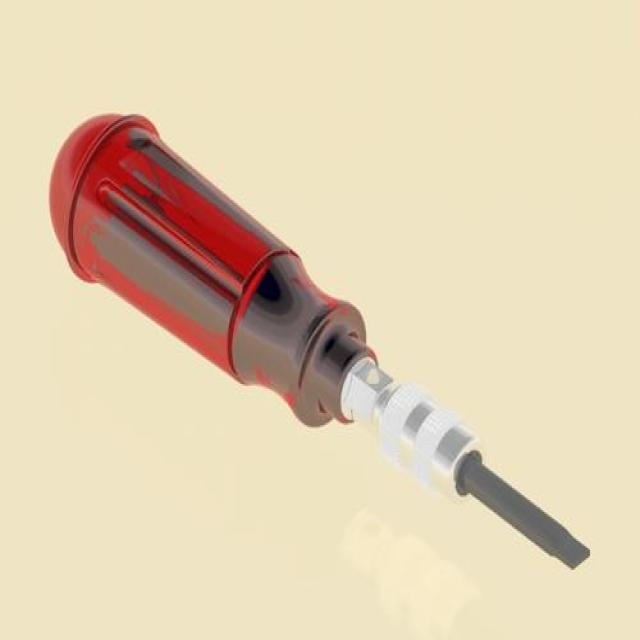screw driver: (31, 60, 602, 609)
